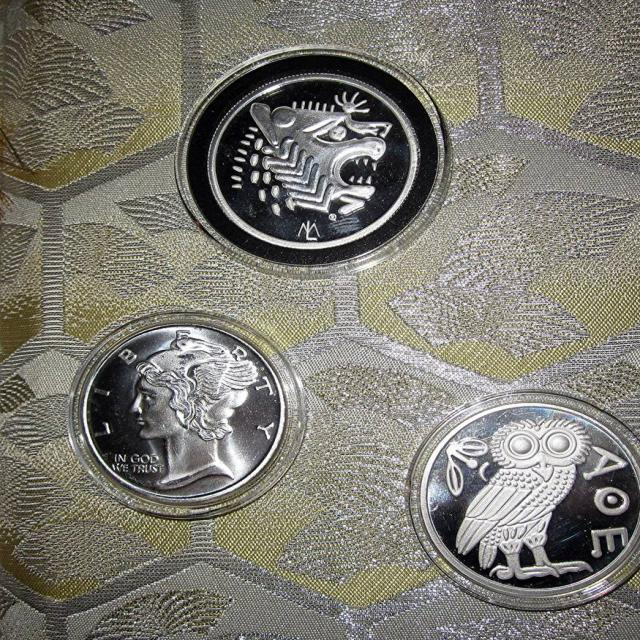Coin: (185, 54, 439, 266), (419, 401, 640, 592), (80, 323, 285, 502)
